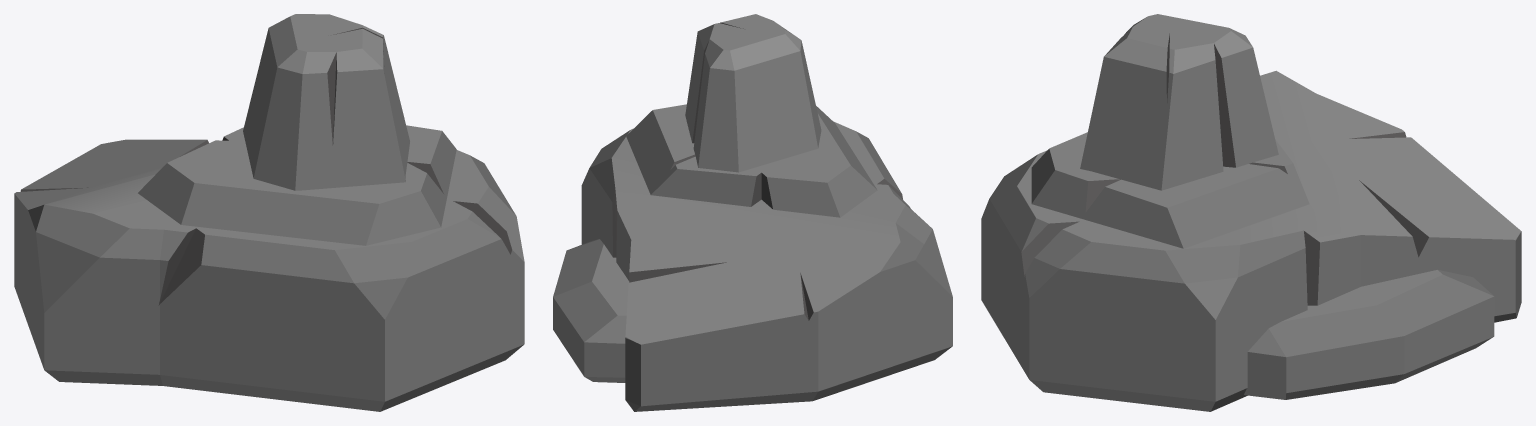
File: WastelandStone2.fbx
3 views of the same model, side by side, from view 1: azimuth 30°, elevation 25°; view 2: azimuth 150°, elevation 25°; view 3: azimuth 270°, elevation 25° (orthographic). The views are drawn at different scales.
Visible parts, largest first — view 1: WastelandStone2Piece_3, WastelandStone2Piece_1, WastelandStone2Piece_2, WastelandStone2Piece_4; view 2: WastelandStone2Piece_4, WastelandStone2Piece_1, WastelandStone2Piece_2, WastelandStone2Piece_3; view 3: WastelandStone2Piece_4, WastelandStone2Piece_3, WastelandStone2Piece_1, WastelandStone2Piece_2.
Boxes of the visible parts, x1,y1,x2,y2 form: WastelandStone2Piece_3: (44, 150, 524, 411); WastelandStone2Piece_1: (243, 14, 409, 190); WastelandStone2Piece_2: (137, 125, 456, 245); WastelandStone2Piece_4: (14, 139, 208, 369); WastelandStone2Piece_4: (553, 158, 952, 411); WastelandStone2Piece_1: (685, 14, 821, 172); WastelandStone2Piece_2: (626, 104, 877, 217); WastelandStone2Piece_3: (589, 121, 952, 295); WastelandStone2Piece_4: (1210, 70, 1521, 411); WastelandStone2Piece_3: (981, 150, 1240, 411); WastelandStone2Piece_1: (1080, 14, 1278, 190); WastelandStone2Piece_2: (1031, 132, 1309, 248).
Bounding box in the file's own units: 235 × 160 × 255.
